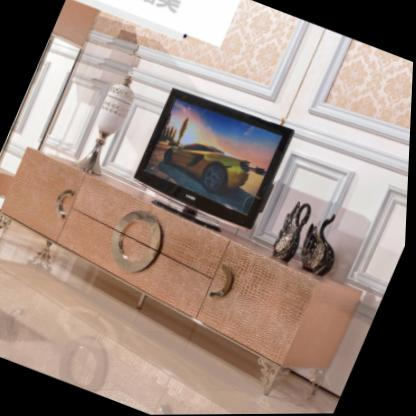Ceramic floor: (0, 208, 342, 415)
TV stand: (0, 147, 365, 382)
